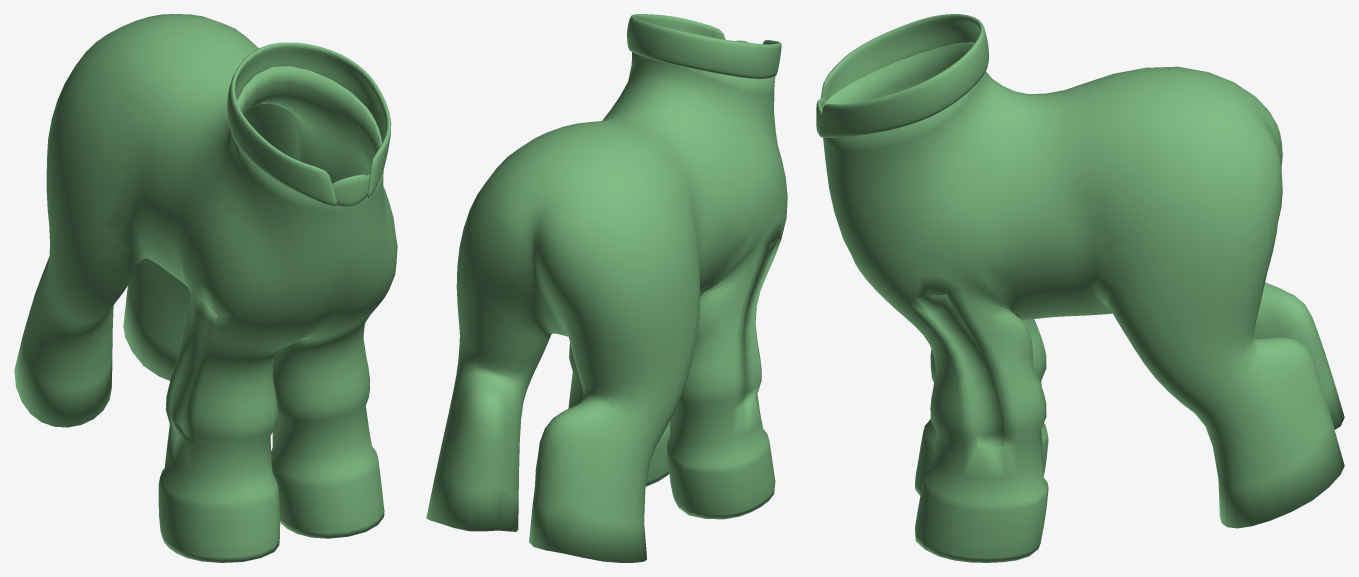
The model's file is uniform.obj.
3 renders of one model, left to right at view 1: azimuth 30°, elevation 25°; view 2: azimuth 150°, elevation 25°; view 3: azimuth 270°, elevation 25°, orthographic. The views are drawn at different scales.
Visible parts, largest first — view 1: vn_alternatedash_uniform; view 2: vn_alternatedash_uniform; view 3: vn_alternatedash_uniform.
Boxes of the visible parts, box(x1,y1,x2,y2) form: vn_alternatedash_uniform: box(14, 14, 397, 562); vn_alternatedash_uniform: box(426, 14, 787, 562); vn_alternatedash_uniform: box(816, 14, 1344, 562).
Size of the model in its own units: 13.2 by 27.08 by 26.59.
